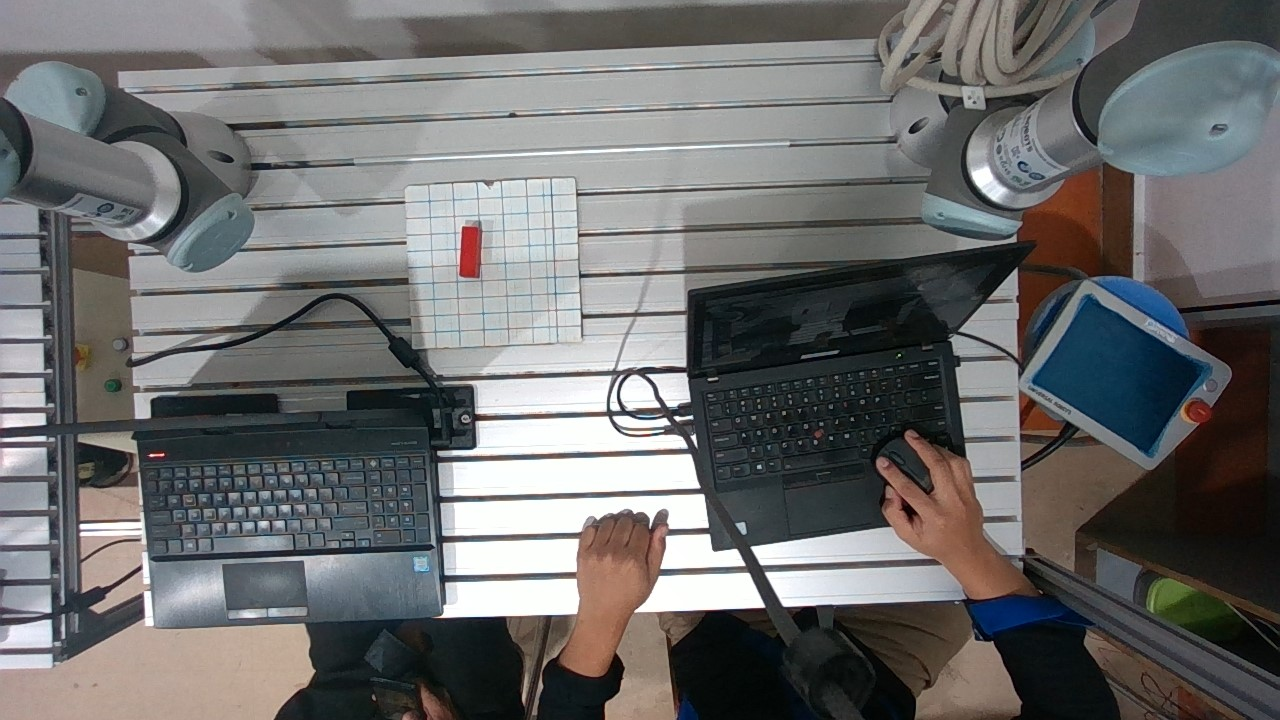box: (453, 218, 487, 289)
